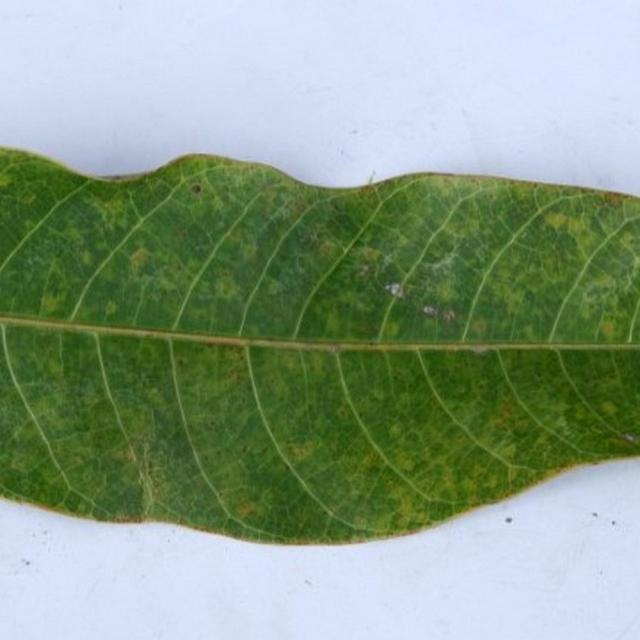Mango: (0, 150, 639, 542)
Powdery_Mildew: (86, 183, 134, 236), (318, 202, 369, 243), (22, 392, 74, 432), (579, 276, 623, 307), (207, 272, 242, 304), (40, 290, 69, 315), (285, 439, 316, 462), (282, 195, 313, 218), (386, 415, 410, 443), (520, 289, 543, 318), (433, 278, 458, 302), (457, 215, 483, 238), (291, 252, 314, 277), (199, 337, 238, 350), (497, 400, 520, 422), (589, 272, 616, 290), (223, 227, 247, 246), (323, 313, 343, 335), (545, 212, 569, 230), (358, 246, 383, 263), (118, 442, 138, 463), (619, 232, 639, 252), (506, 290, 527, 309), (234, 501, 257, 518), (130, 247, 151, 265), (64, 228, 84, 245), (603, 191, 629, 204), (471, 318, 489, 336), (599, 320, 617, 338), (383, 319, 400, 338), (265, 279, 284, 296), (497, 443, 517, 459), (224, 366, 240, 384), (114, 512, 140, 523), (19, 191, 37, 206), (104, 300, 119, 317), (0, 171, 15, 188), (600, 401, 618, 415), (79, 250, 93, 267), (393, 235, 411, 248), (355, 263, 371, 277), (469, 346, 490, 355), (336, 406, 349, 420), (444, 310, 455, 322), (471, 177, 484, 185), (207, 419, 217, 429), (634, 255, 640, 270), (177, 358, 186, 366), (242, 445, 249, 454)
